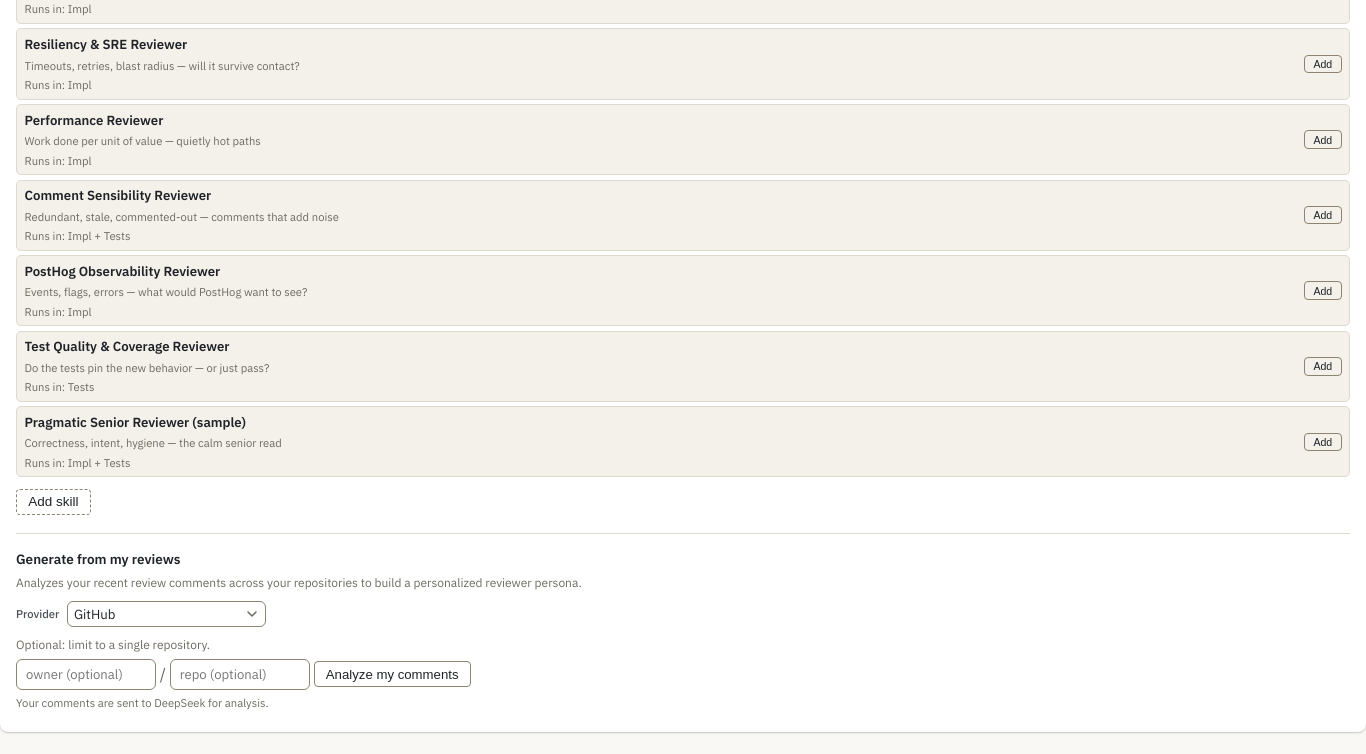
SkillsSection — account-wide mining UI › shows GitLab sign-in guidance when GitLab is selected without auth
The image size is (1366, 754).
(page scrolled)
Select "GitLab" in the dropdown with id "mine-provider-select" at (167, 614), box [67,601,266,627]
(page scrolled)
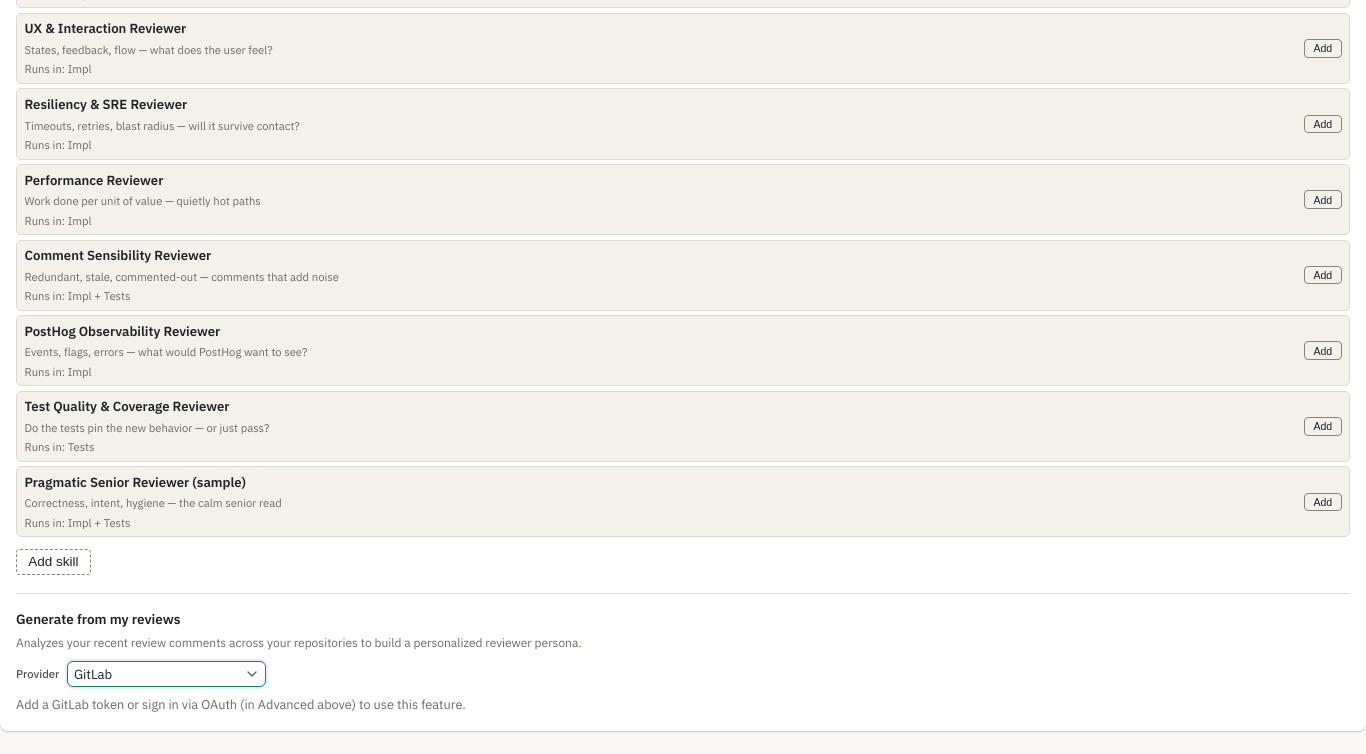
Expected: the text "Add a GitLab token or sign in via OAuth" is shown, [16,696,466,713]
